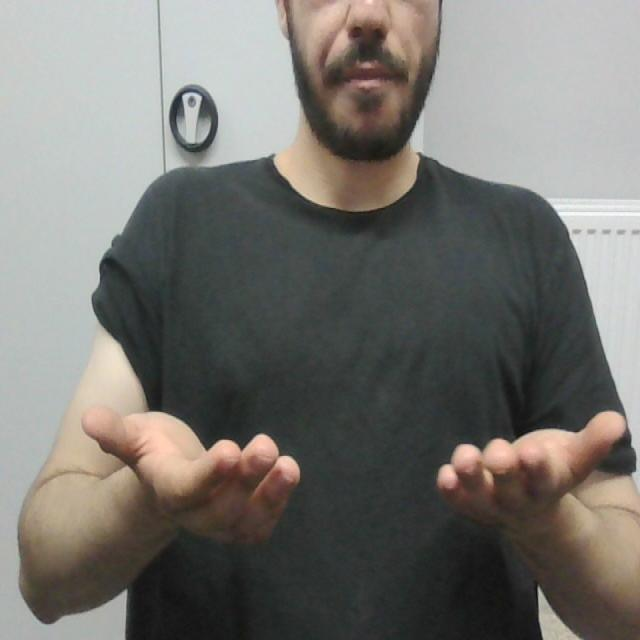Evet: (78, 396, 630, 548)
